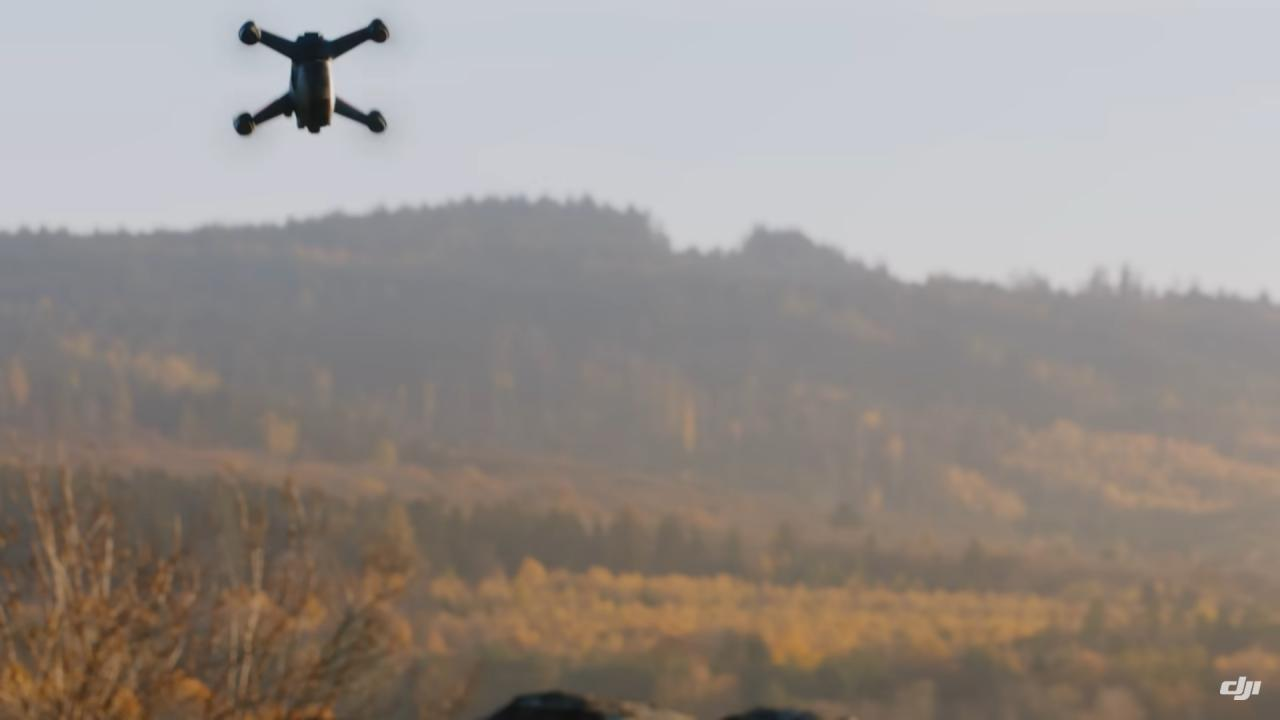Drone: (214, 8, 408, 160)
